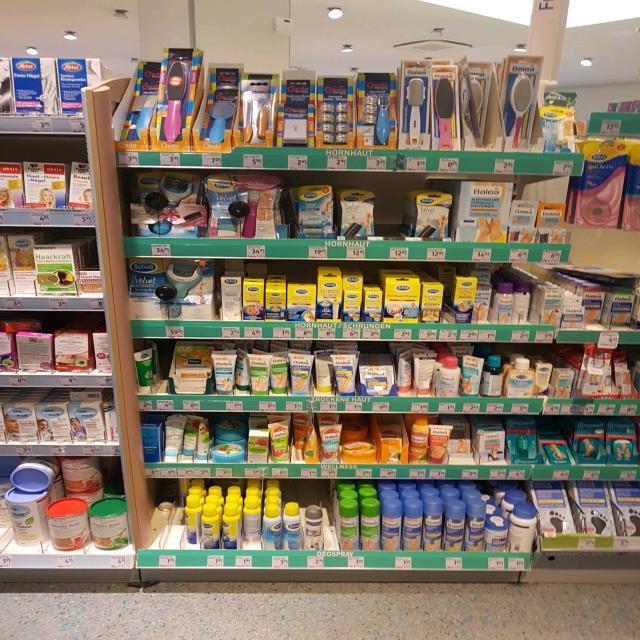empty: (374, 180, 411, 249), (320, 484, 340, 552)
